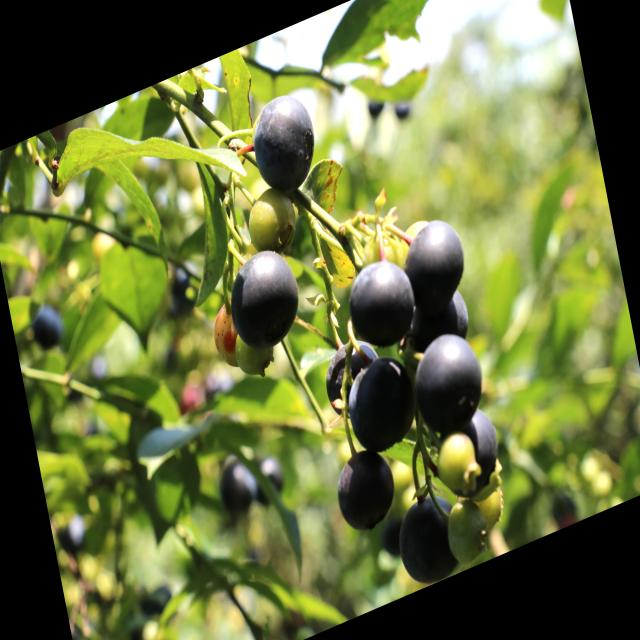blueberry: (408, 319, 490, 441), (223, 239, 306, 358), (244, 82, 324, 204), (340, 344, 420, 458), (397, 208, 472, 315), (392, 488, 466, 594), (344, 252, 417, 356), (330, 443, 399, 536), (215, 454, 259, 520), (28, 300, 67, 359), (251, 454, 285, 506)
blueberry-unripe: (242, 181, 306, 259), (441, 493, 492, 566), (433, 429, 482, 495), (202, 299, 245, 373)
